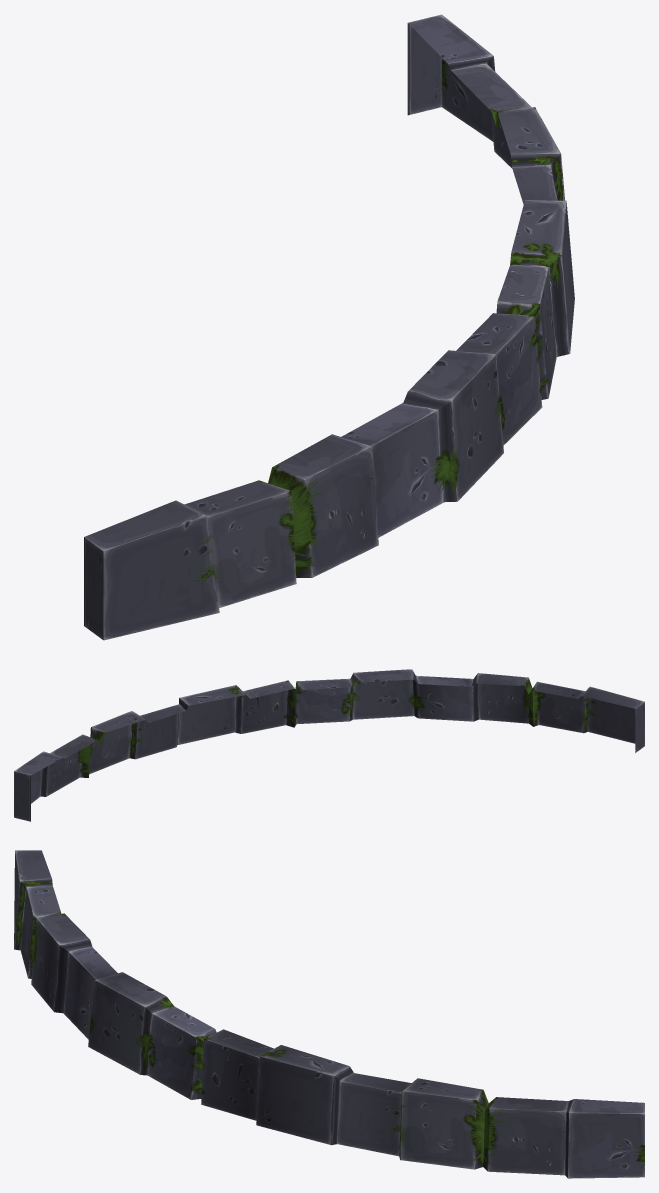
Rendered from MOD_WallTrim_01_E_convex.fbx.
3 renders of one model, top to bottom at view 1: azimuth 30°, elevation 25°; view 2: azimuth 150°, elevation 25°; view 3: azimuth 270°, elevation 25°, orthographic. The views are drawn at different scales.
Parts seen in each view (by area): view 1: MOD_WallTrim_01_E_convex; view 2: MOD_WallTrim_01_E_convex; view 3: MOD_WallTrim_01_E_convex.
Part boxes in pixels (box(x1,y1,x2,y2)): MOD_WallTrim_01_E_convex: box(84, 14, 574, 640); MOD_WallTrim_01_E_convex: box(14, 669, 644, 821); MOD_WallTrim_01_E_convex: box(14, 850, 644, 1178).
Size of what is drawn, in the model's own units: 472 by 55.08 by 471.
